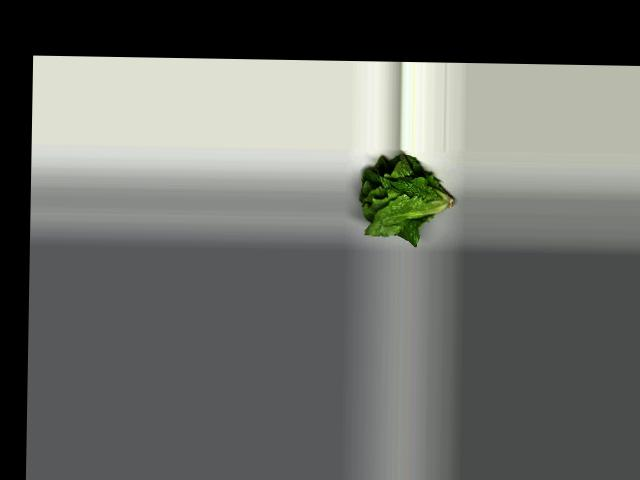lettuce: (354, 147, 463, 245)
